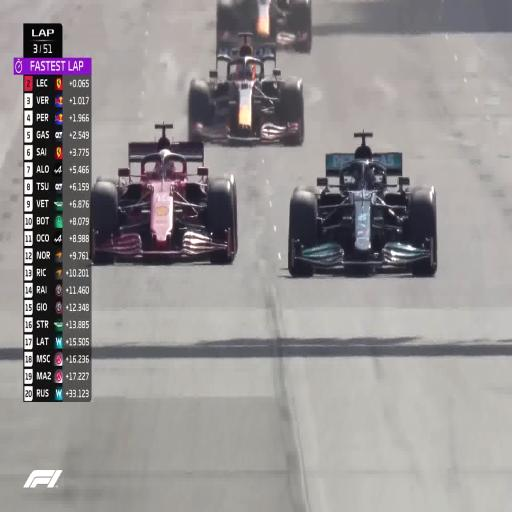f1_car: (288, 132, 437, 276), (90, 124, 237, 263), (189, 33, 304, 145), (217, 0, 312, 53)
